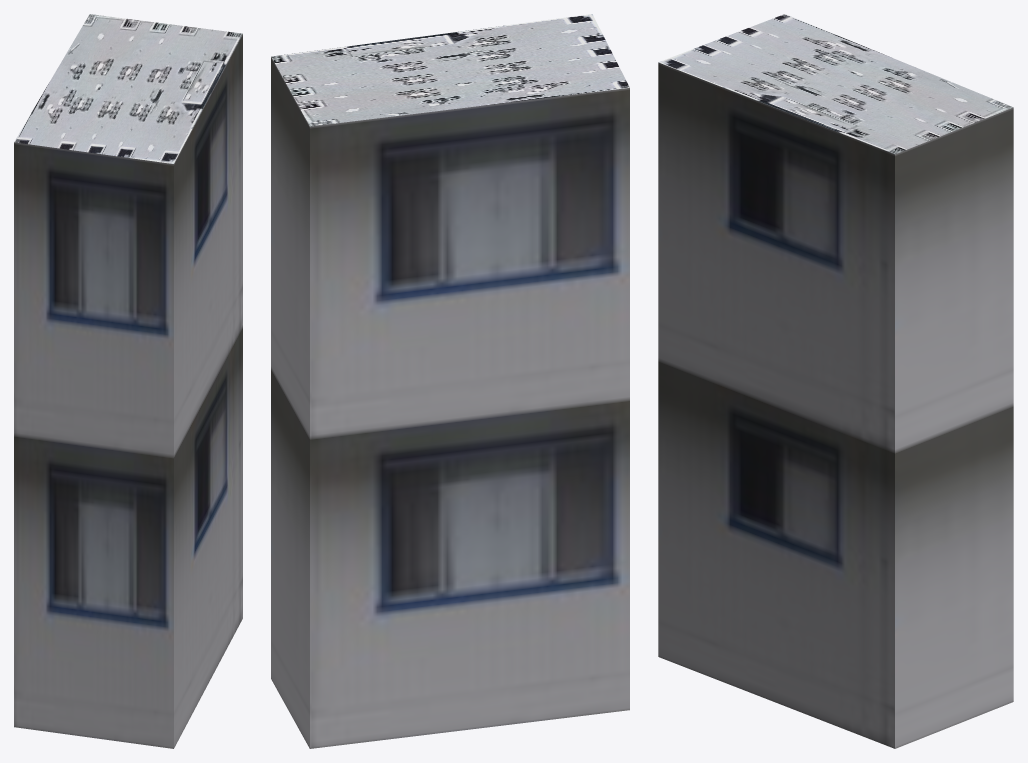
Rendered from ResTex__1660.fbx.
The picture shows the model from 3 angles, left to right: view 1: azimuth 30°, elevation 25°; view 2: azimuth 150°, elevation 25°; view 3: azimuth 270°, elevation 25°; orthographic projection. The views are drawn at different scales.
Visible parts, largest first — view 1: CityEngineMaterial_9_m, CityEngineMaterial_8_m; view 2: CityEngineMaterial_9_m, CityEngineMaterial_8_m; view 3: CityEngineMaterial_9_m, CityEngineMaterial_8_m.
Boxes of the visible parts, left/top/right/bottom form: CityEngineMaterial_9_m: left=14, top=34, right=242, bottom=748; CityEngineMaterial_8_m: left=14, top=14, right=242, bottom=163; CityEngineMaterial_9_m: left=271, top=57, right=629, bottom=748; CityEngineMaterial_8_m: left=271, top=14, right=629, bottom=126; CityEngineMaterial_9_m: left=658, top=62, right=1013, bottom=748; CityEngineMaterial_8_m: left=658, top=14, right=1013, bottom=154.
Size of the model in its own units: 3.04 by 6 by 3.25.
Materials: 2 (2 with a texture image).
